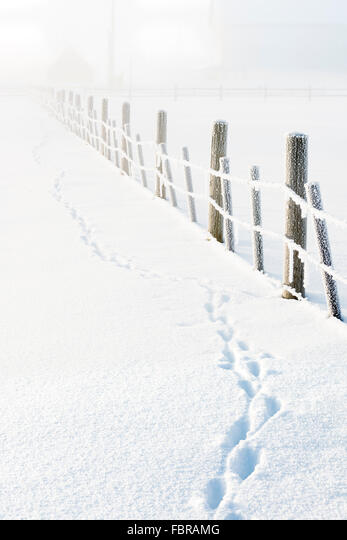fox: (227, 445, 267, 486), (227, 414, 251, 445)
